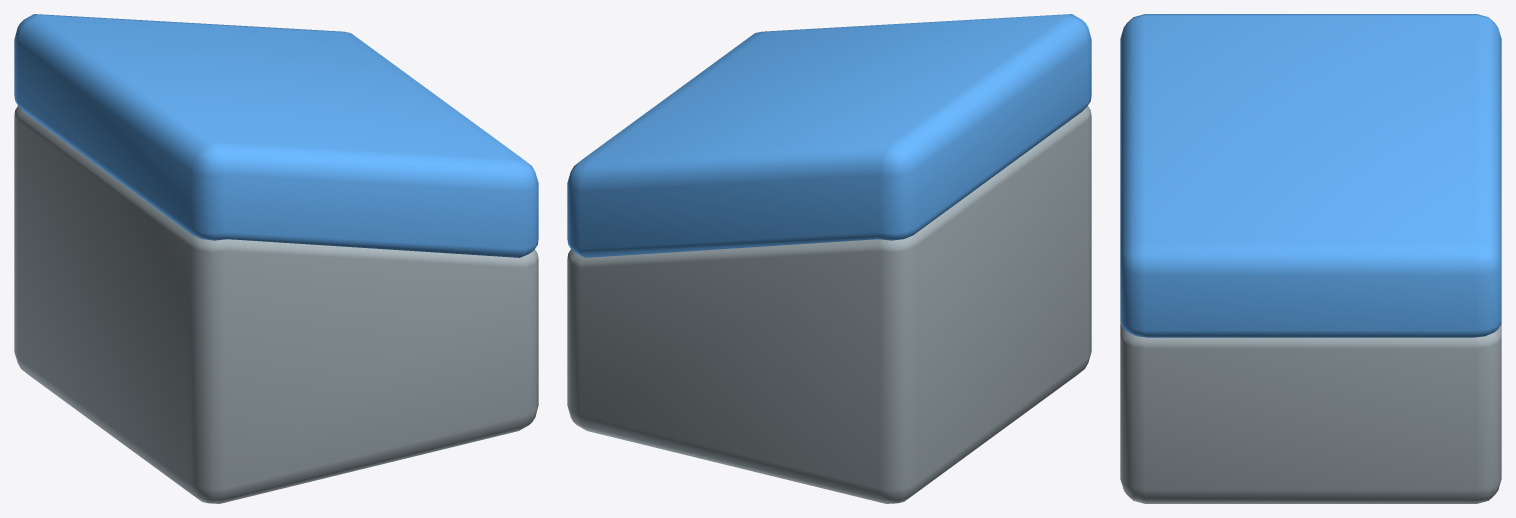
The model's file is tileSlopeMediumHigh_teamBlue-col.glb.
3 renders of one model, left to right at view 1: azimuth 30°, elevation 25°; view 2: azimuth 150°, elevation 25°; view 3: azimuth 270°, elevation 25°, orthographic. The views are drawn at different scales.
Parts seen in each view (by area): view 1: tileSlopeMediumHigh_teamBlue-col; view 2: tileSlopeMediumHigh_teamBlue-col; view 3: tileSlopeMediumHigh_teamBlue-col.
Boxes of the visible parts, <box> form: tileSlopeMediumHigh_teamBlue-col: <box>14,14,538,503</box>; tileSlopeMediumHigh_teamBlue-col: <box>567,14,1091,503</box>; tileSlopeMediumHigh_teamBlue-col: <box>1120,14,1501,503</box>.
Bounding box in the file's own units: 2 × 2 × 2.
